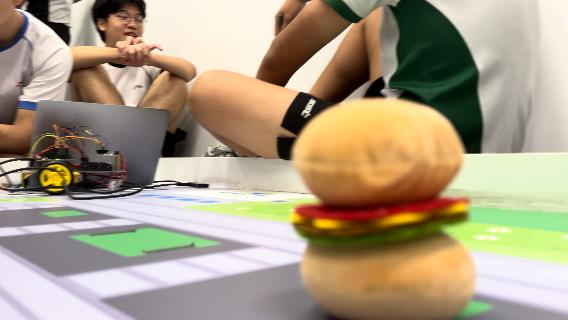burger: (291, 98, 477, 318)
